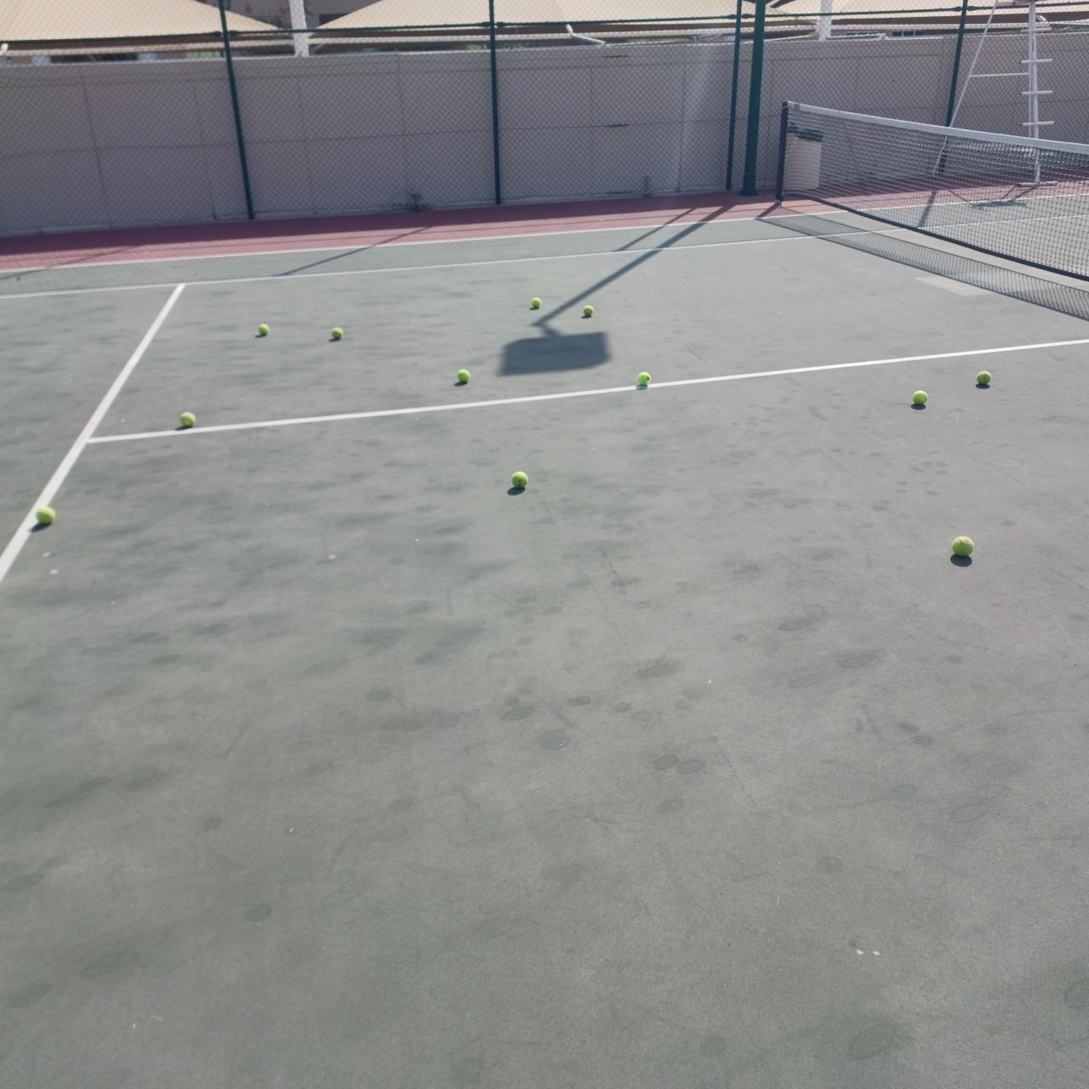tennis-ball: (950, 533, 974, 557), (34, 505, 55, 526), (510, 469, 528, 489), (909, 388, 927, 407), (974, 368, 990, 386), (179, 410, 195, 428), (635, 369, 650, 388), (455, 367, 470, 383), (580, 303, 594, 318), (255, 322, 269, 336), (528, 295, 541, 310), (329, 326, 342, 340)
